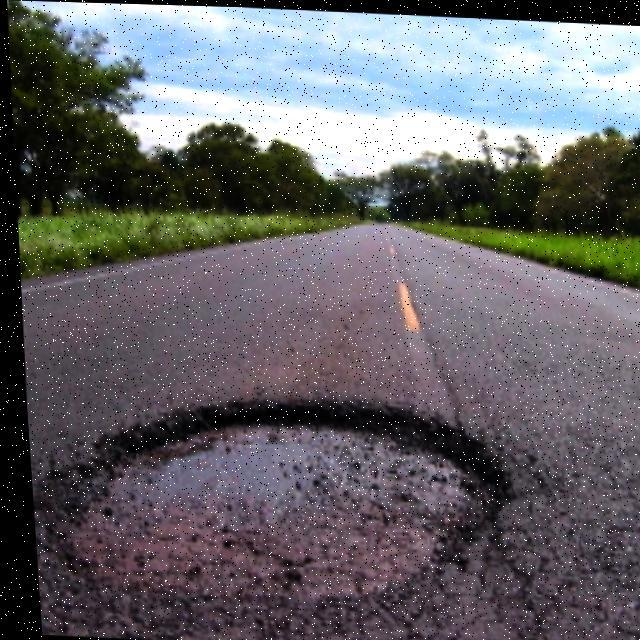pothole: (20, 381, 521, 622)
